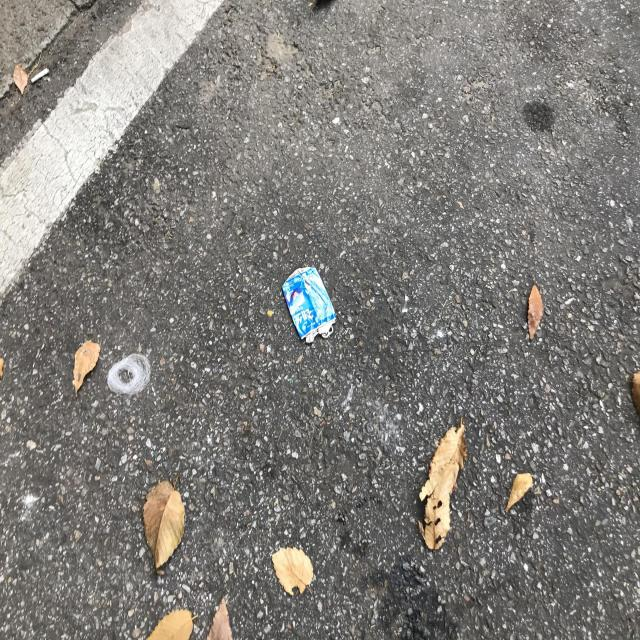can: (282, 266, 336, 343)
